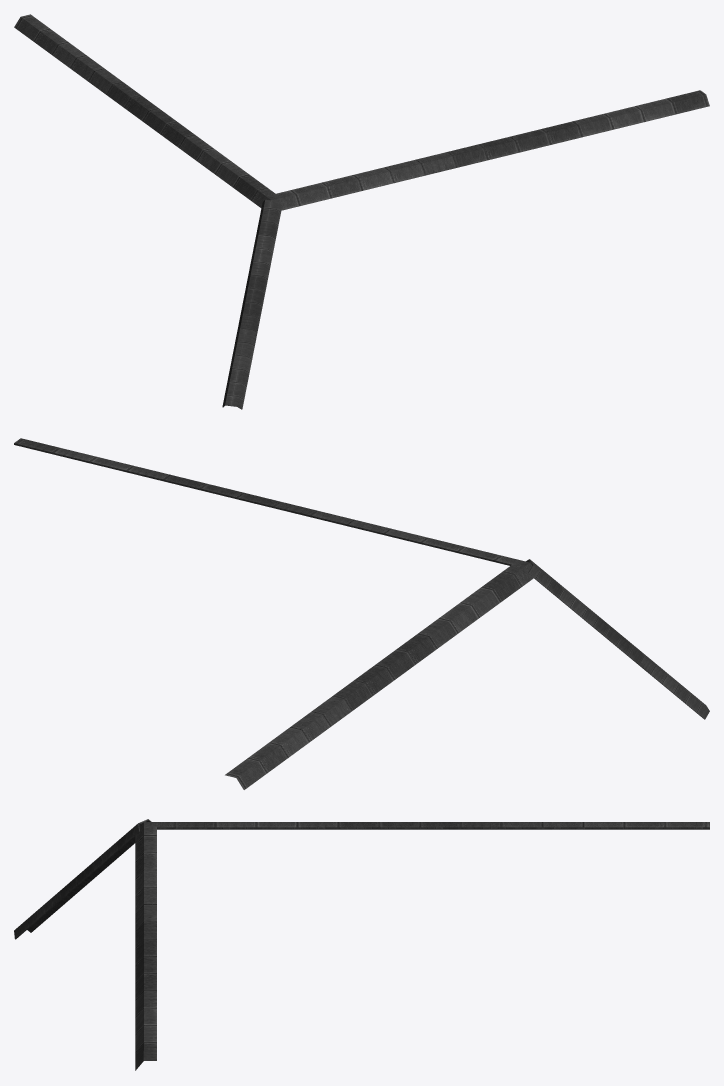
Rendered from Sm_Roof01c03.glb.
3 renders of one model, top to bottom at view 1: azimuth 30°, elevation 25°; view 2: azimuth 150°, elevation 25°; view 3: azimuth 270°, elevation 25°, orthographic. The views are drawn at different scales.
Visible parts, largest first — view 1: Sm_Roof01c03; view 2: Sm_Roof01c03; view 3: Sm_Roof01c03.
Boxes of the visible parts, x1,y1,x2,y2 form: Sm_Roof01c03: (14,14,709,409); Sm_Roof01c03: (14,438,709,789); Sm_Roof01c03: (14,819,709,1070).
Size of the model in its own units: 554 by 146 by 554.
1 material, 1 textured.
